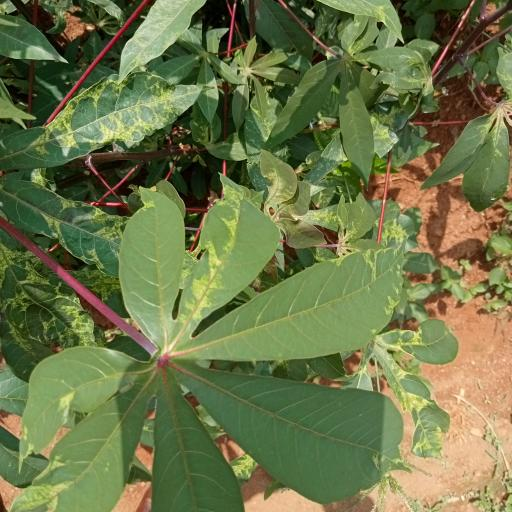Cassava_Healthy: (22, 194, 402, 510)
